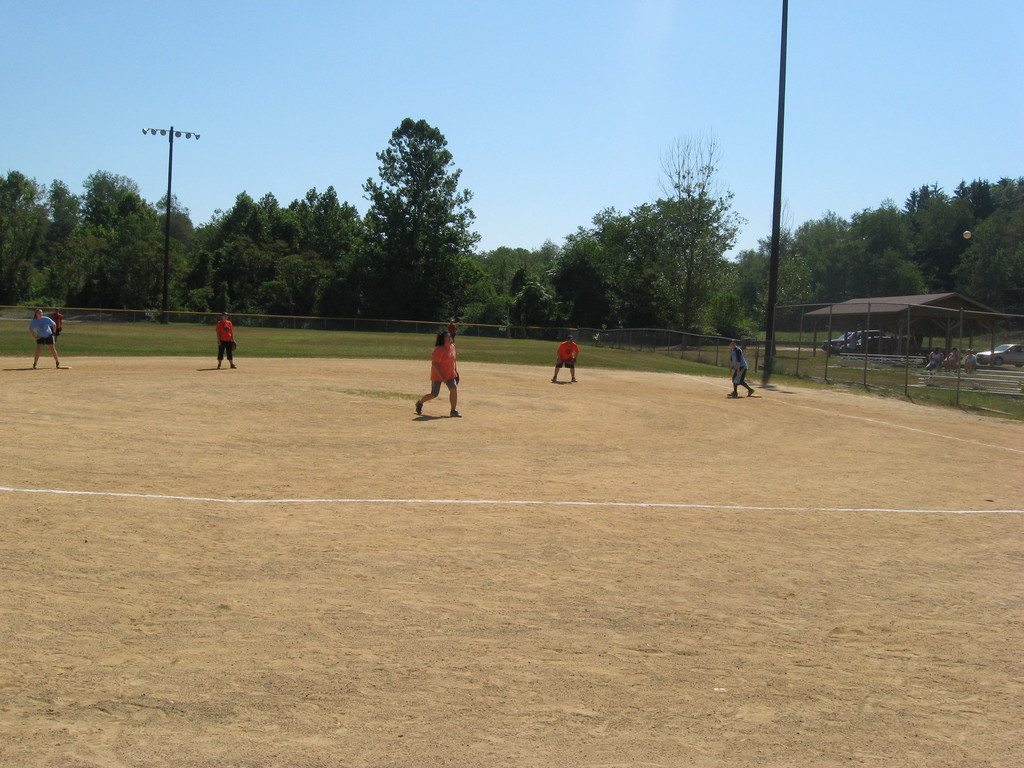Tree: (0, 117, 1024, 348)
